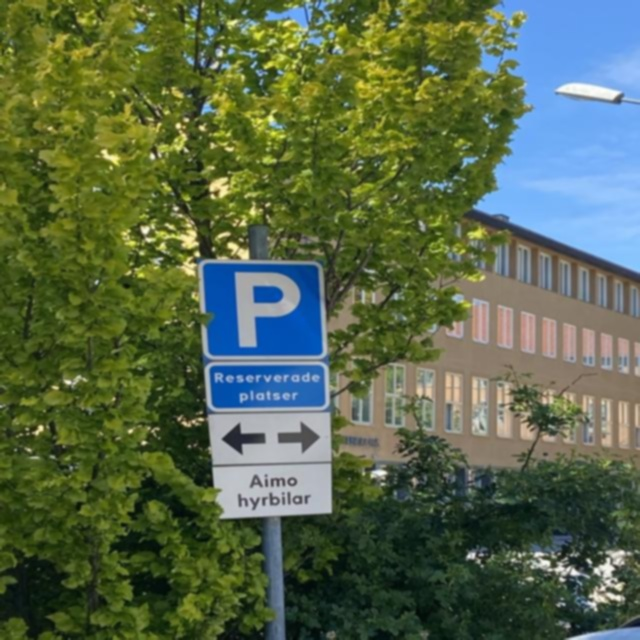P-skylt: (191, 254, 332, 364)
